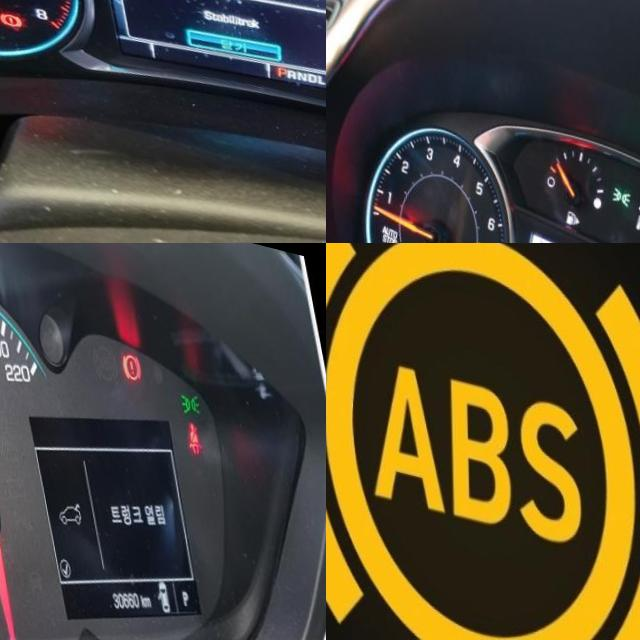SideLamp: (177, 364, 200, 394), (608, 165, 630, 189)
